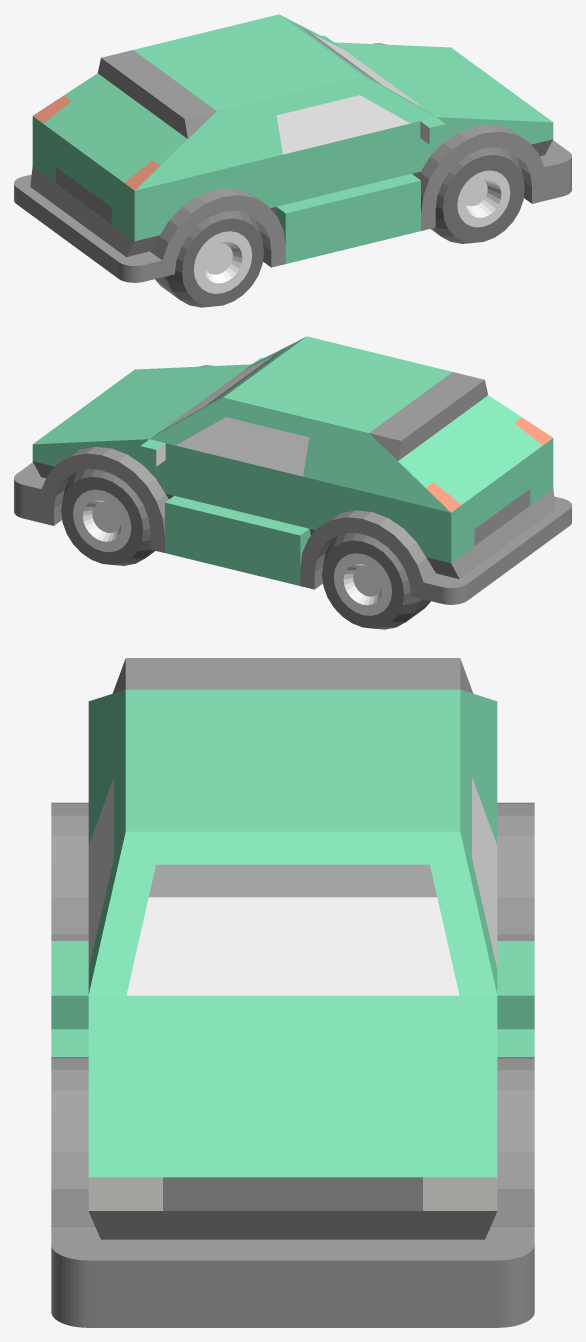
The model's file is HatchBack.dae.
3 views of the same model, one above another, from view 1: azimuth 30°, elevation 25°; view 2: azimuth 150°, elevation 25°; view 3: azimuth 270°, elevation 25° (orthographic). The views are drawn at different scales.
Visible parts, largest first — view 1: body, wheel_backLeft, wheel_frontLeft; view 2: body, wheel_backRight, wheel_frontRight; view 3: body.
Boxes of the visible parts, <box> form: body: <box>14,14,571,282</box>; wheel_backLeft: <box>155,210,263,307</box>; wheel_frontLeft: <box>430,147,524,243</box>; body: <box>14,336,571,604</box>; wheel_backRight: <box>322,532,430,629</box>; wheel_frontRight: <box>61,469,155,565</box>; body: <box>51,658,534,1327</box>.
Bounding box in the file's own units: 2.1 × 0.975 × 0.825.
